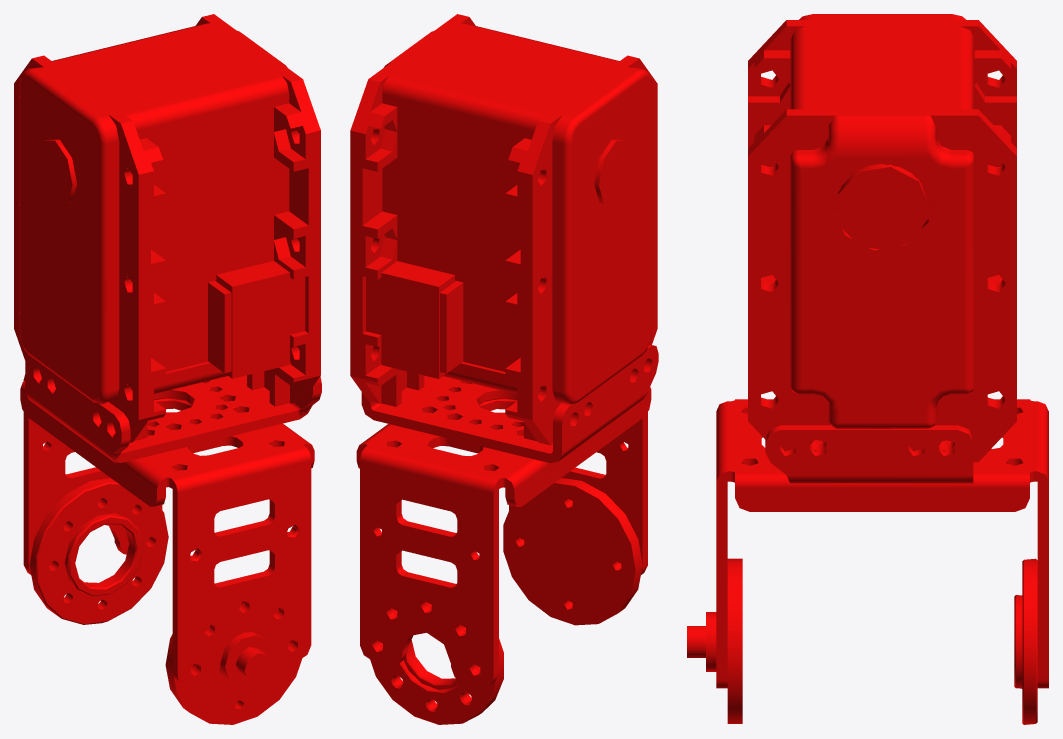
The model's file is Elbow_Pitch.dae.
3 renders of one model, left to right at view 1: azimuth 30°, elevation 25°; view 2: azimuth 150°, elevation 25°; view 3: azimuth 270°, elevation 25°, orthographic. The views are drawn at different scales.
Visible parts, largest first — view 1: ElbowPitch; view 2: ElbowPitch; view 3: ElbowPitch.
Boxes of the visible parts, box(x1,y1,x2,y2) form: ElbowPitch: box(14, 14, 321, 724); ElbowPitch: box(350, 14, 658, 724); ElbowPitch: box(687, 14, 1048, 724).
Bounding box in the file's own units: 0.037 × 0.0948 × 0.0479.
